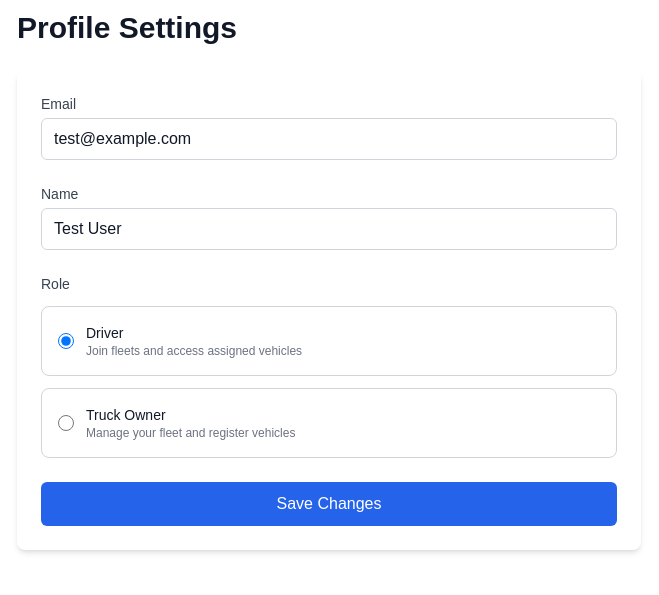
Test: ProfilePage › validates required fields
The width and height of the screenshot is (659, 595).
Clear the field labelled "Name": (329, 229) [41,208,617,250]
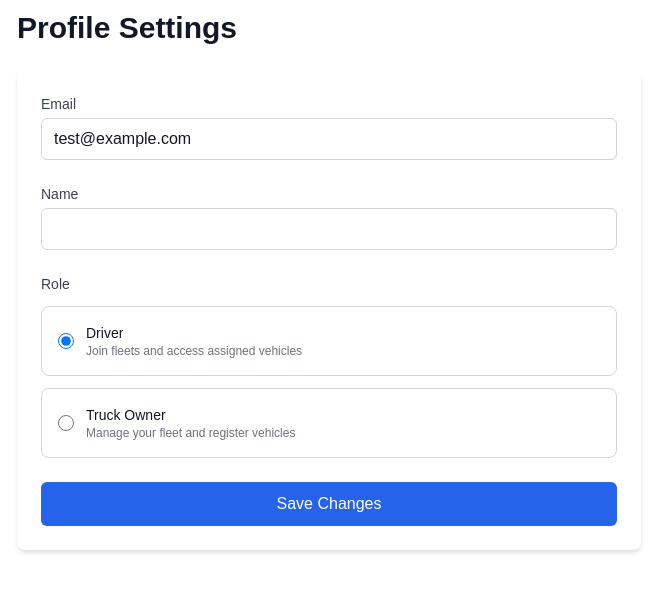
Click the button "Save Changes": (329, 504) [41,482,617,526]
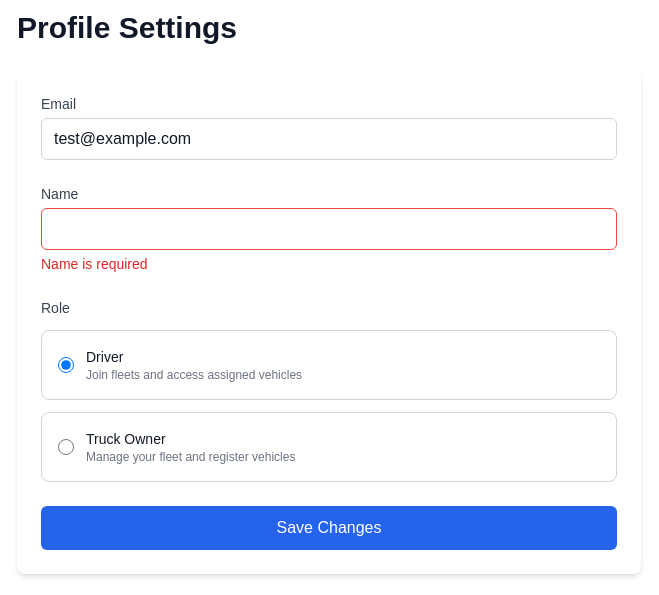
Expected: the text "Name is required" is shown, [41,256,148,272]
